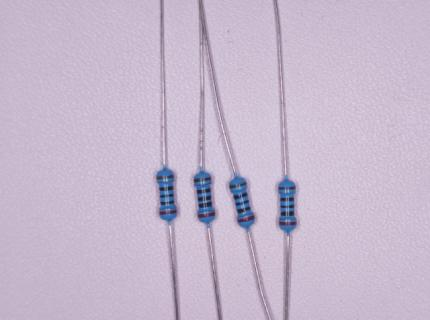Black band: (233, 192, 248, 200), (235, 199, 250, 207), (237, 206, 252, 214), (160, 200, 175, 207), (197, 195, 212, 202), (199, 202, 212, 209), (159, 186, 174, 192), (197, 188, 211, 194), (160, 194, 175, 199), (280, 197, 295, 202), (280, 211, 295, 216), (280, 205, 295, 209)
Brown band: (229, 181, 248, 190), (193, 177, 212, 183), (156, 175, 175, 180), (278, 186, 296, 190)
Red band: (237, 215, 255, 224), (197, 212, 216, 219), (159, 209, 177, 216), (279, 221, 297, 226)
